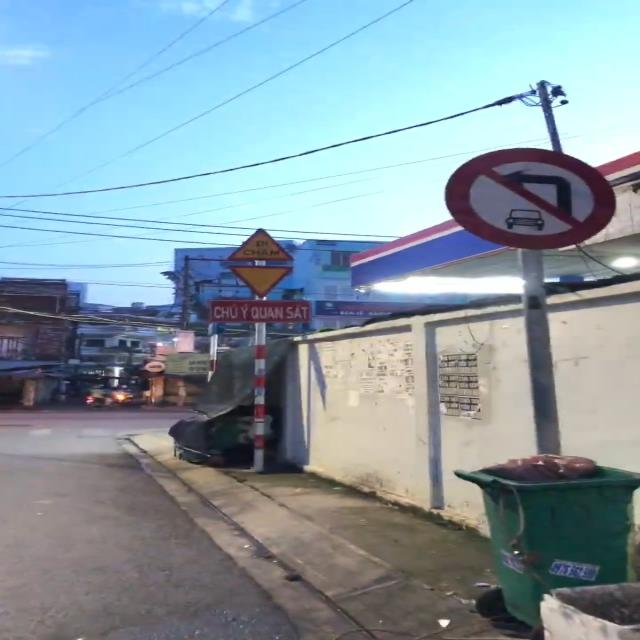Bien bao cam xe o to re trai: (437, 144, 629, 250)
Bien bao di cham: (221, 227, 288, 263)
Bien bao giao nhau voi duong uu tien: (221, 262, 298, 300)
